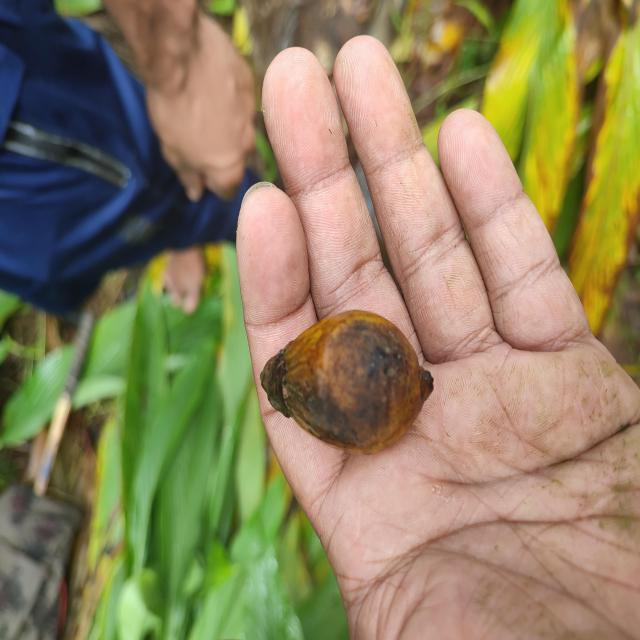damaged: (261, 311, 435, 458)
